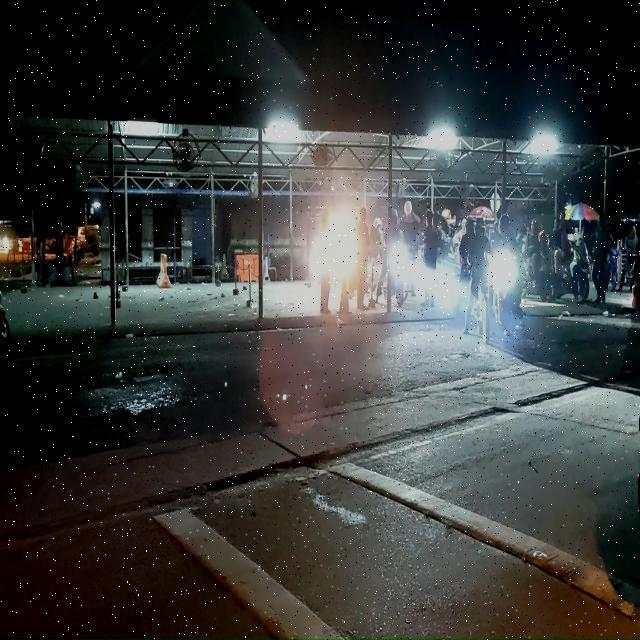Golongan II: (484, 247, 522, 340), (382, 240, 420, 308), (569, 240, 590, 302), (612, 252, 637, 290), (606, 246, 619, 291)
